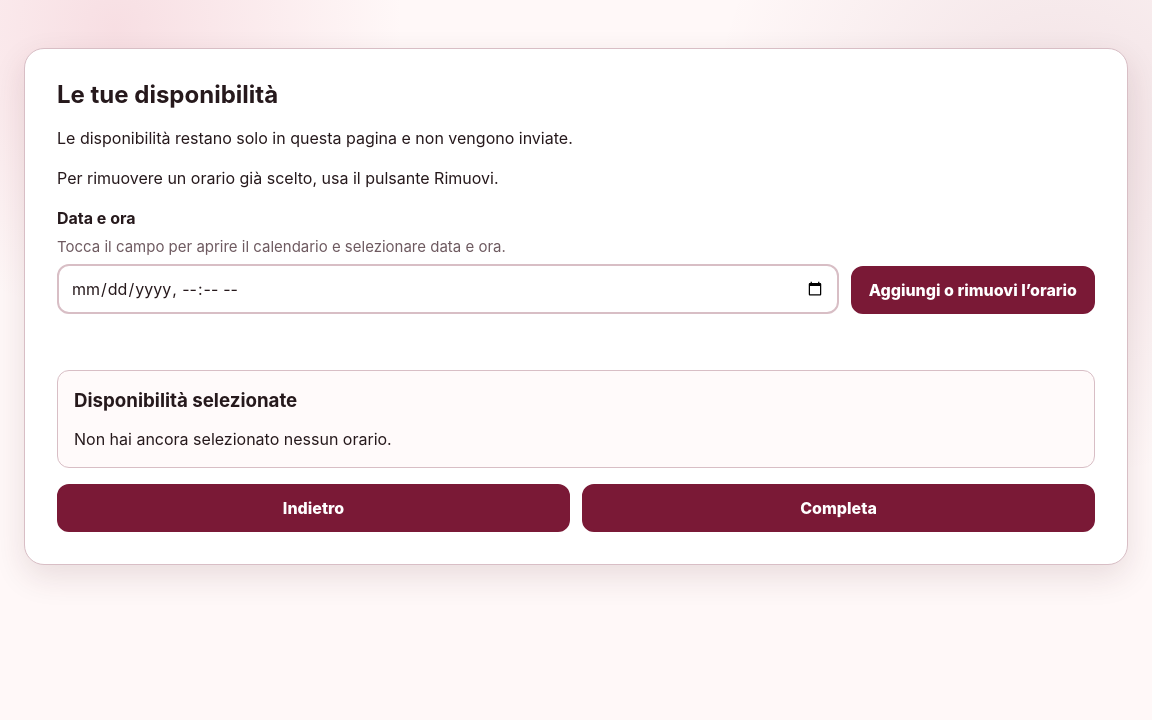
Test case: AvailabilityPicker › annuncia l’errore e non completa senza disponibilità
Step 1. Click the button "Completa" → (838, 508), box [582, 484, 1095, 532]
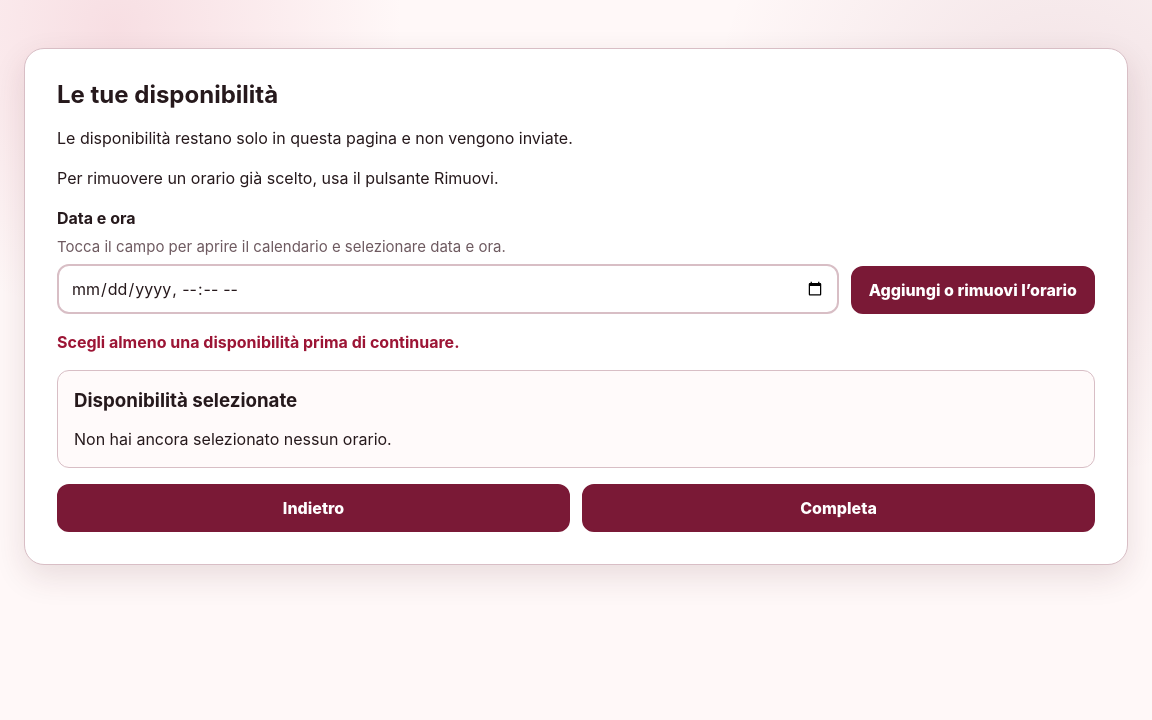
Expected: the text with id "availability-error" reads "Scegli almeno una disponibilità prima di continuare.", [57, 332, 460, 352]
